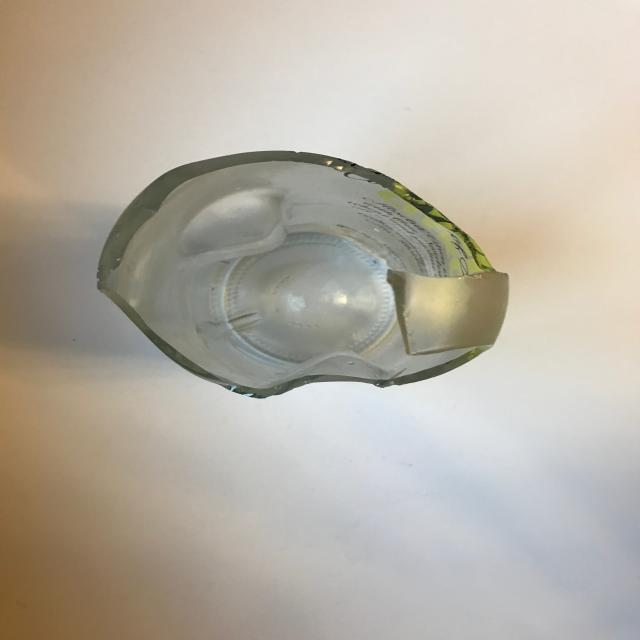glass: (96, 149, 510, 399)
